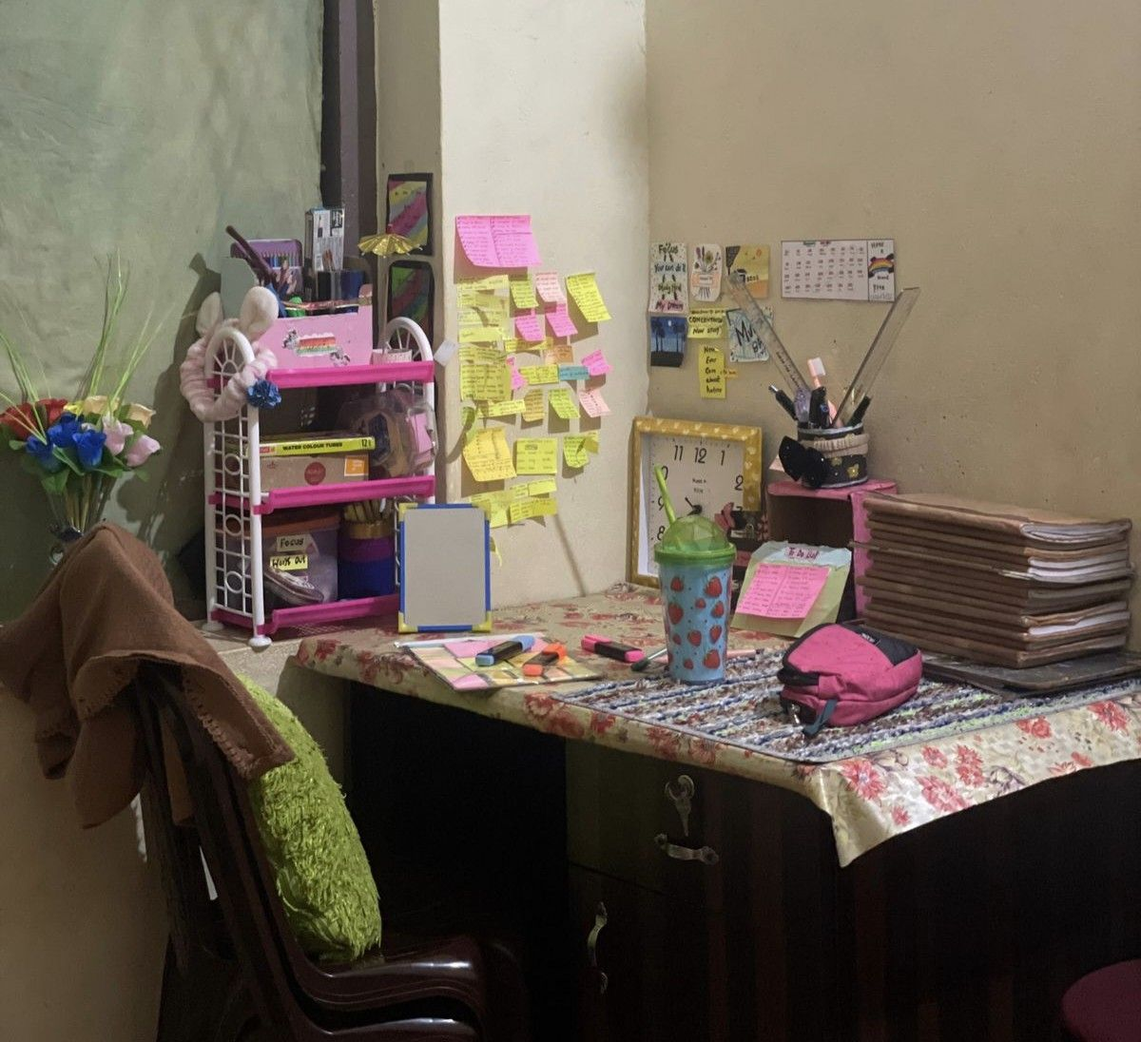not a gesture sign: (81, 609, 510, 1042)
